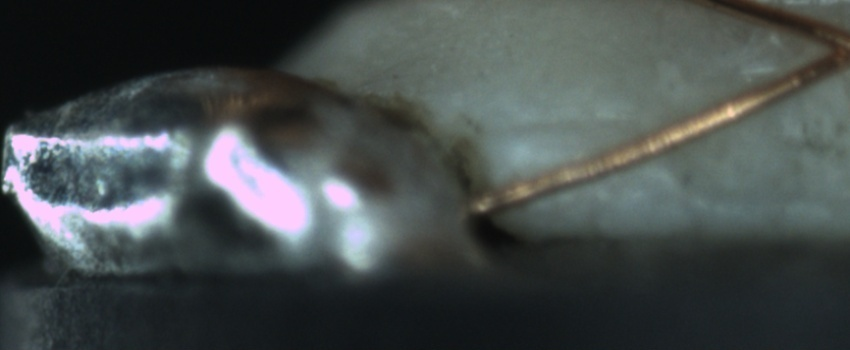CL: (800, 11, 850, 83)
DL: (499, 92, 649, 160)
